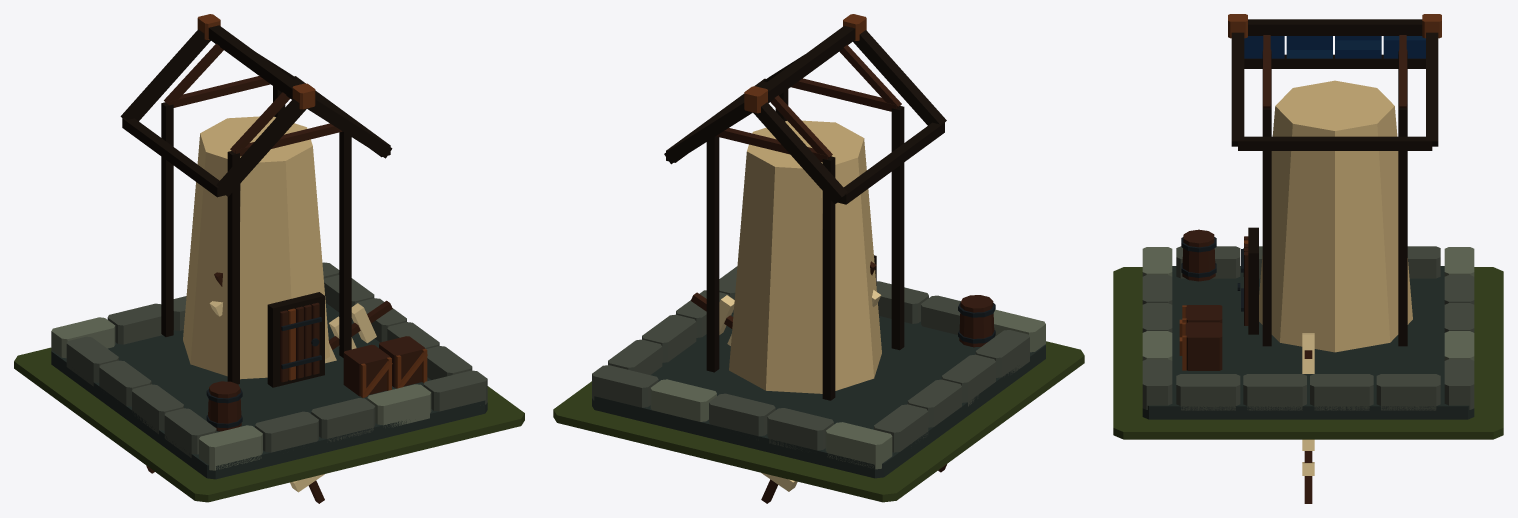
The model's file is mill_t1.glb.
3 renders of one model, left to right at view 1: azimuth 30°, elevation 25°; view 2: azimuth 150°, elevation 25°; view 3: azimuth 270°, elevation 25°, orthographic. The views are drawn at different scales.
Parts seen in each view (by area): view 1: MMR | mill | T01 Architecture.001, MMR | mill | Tier 01 Ground.001, MMR | mill | T01 Wind Rotor.001; view 2: MMR | mill | T01 Architecture.001, MMR | mill | Tier 01 Ground.001, MMR | mill | T01 Wind Rotor.001; view 3: MMR | mill | T01 Architecture.001, MMR | mill | Tier 01 Ground.001, MMR | mill | T01 Wind Rotor.001.
Boxes of the visible parts, x1=… form: MMR | mill | T01 Architecture.001: x1=51, y1=14, x2=487, y2=479; MMR | mill | Tier 01 Ground.001: x1=14, y1=347, x2=524, y2=502; MMR | mill | T01 Wind Rotor.001: x1=146, y1=272, x2=392, y2=503; MMR | mill | T01 Architecture.001: x1=592, y1=14, x2=1045, y2=478; MMR | mill | Tier 01 Ground.001: x1=553, y1=341, x2=1084, y2=502; MMR | mill | T01 Wind Rotor.001: x1=691, y1=261, x2=946, y2=503; MMR | mill | T01 Architecture.001: x1=1142, y1=14, x2=1474, y2=419; MMR | mill | Tier 01 Ground.001: x1=1113, y1=267, x2=1503, y2=439; MMR | mill | T01 Wind Rotor.001: x1=1302, y1=333, x2=1314, y2=503.
Bounding box in the file's own units: 2.35 × 3.07 × 2.35.
Materials: 1 (1 with a texture image).
